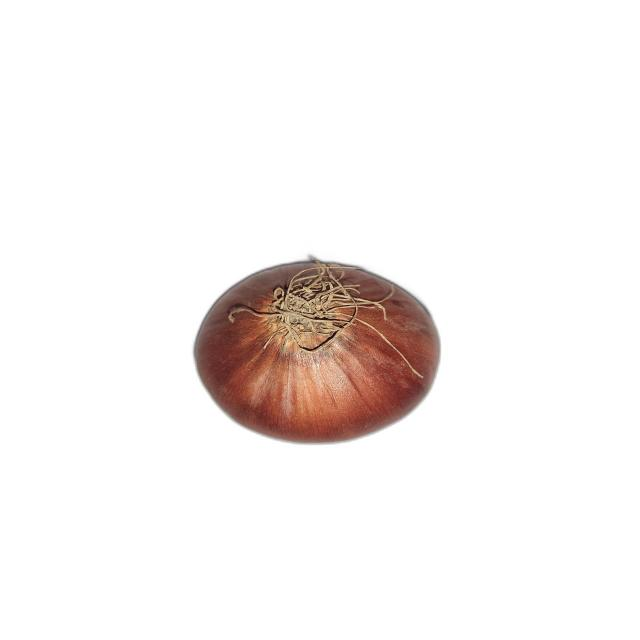onion: (193, 256, 441, 445)
